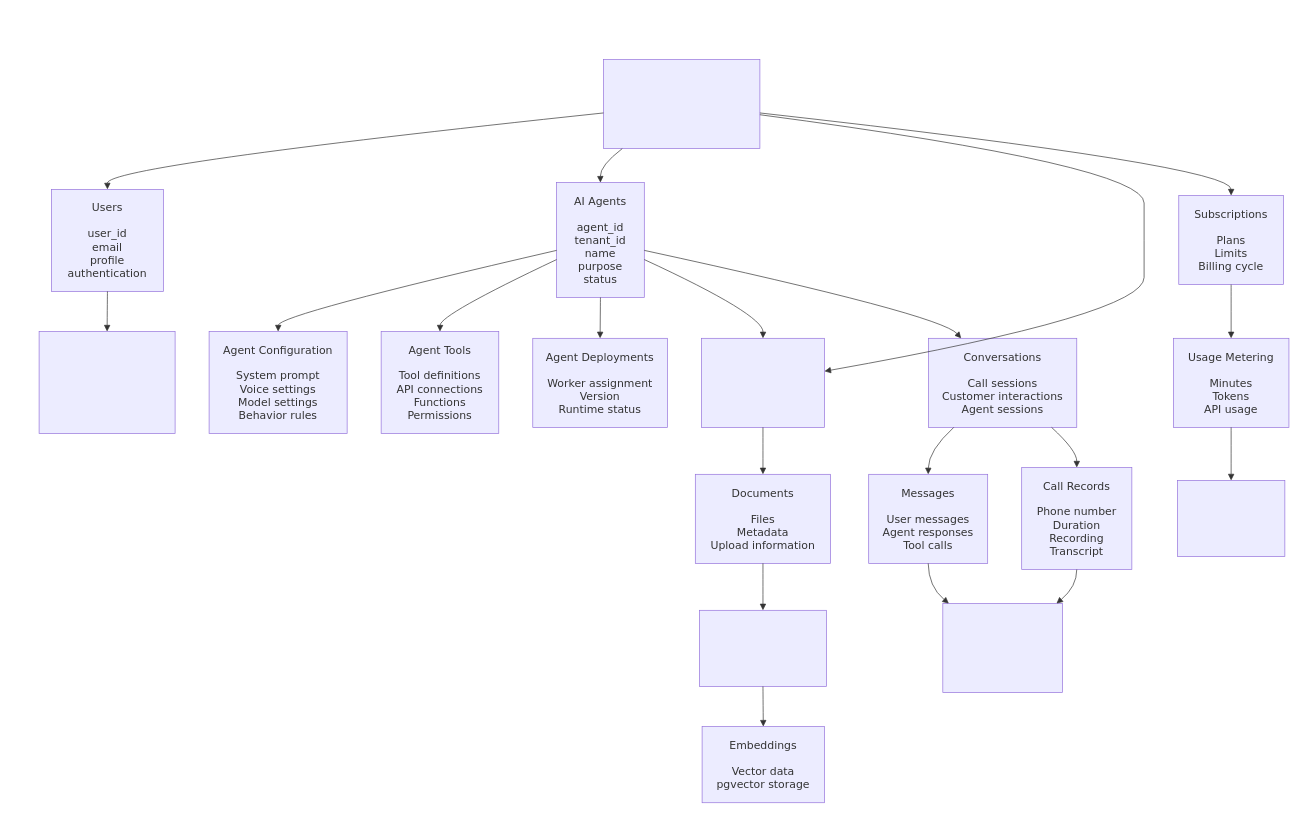
This 1301x815 diagram has some shape labels left out. The shapes that lost their labels are listed below. From the top down, each one's centre as x and y in pixels, then its label:
At (x=681, y=104): "Organizations / Tenants tenant_id company information subscription".
At (x=106, y=382): "Roles & Permissions Admin Manager Agent User Access control".
At (x=763, y=382): "Knowledge Bases tenant_id agent access configuration".
At (x=1231, y=518): "Invoices Billing history Payments".
At (x=763, y=648): "Document Chunks Split text Chunk metadata".
At (x=1002, y=648): "Analytics Events Latency Quality metrics Usage metrics".
